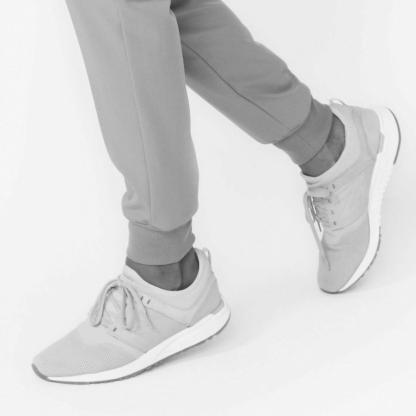ankle: (177, 292, 181, 297), (346, 150, 350, 154)
heel: (368, 110, 374, 116), (217, 302, 222, 306)
left_foot: (33, 267, 233, 386)
pinky: (71, 370, 76, 376), (321, 274, 324, 277)
right_foot: (318, 108, 402, 295)
toe: (40, 355, 46, 360), (341, 283, 344, 286)
